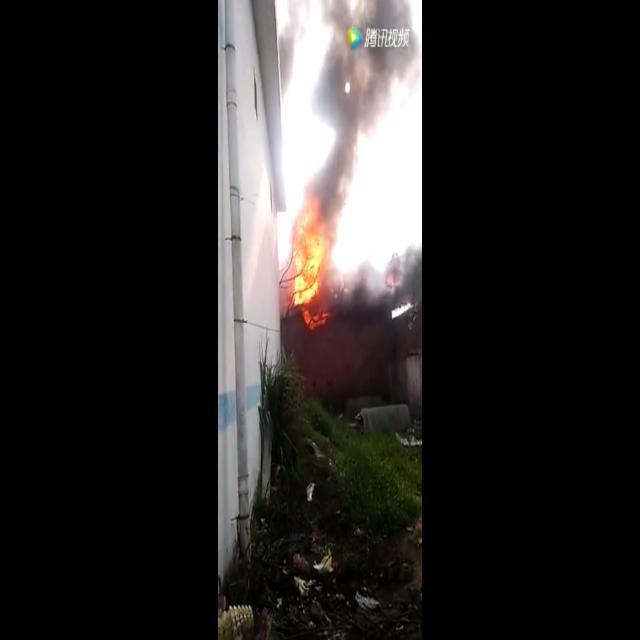Fire: (292, 210, 328, 328)
Smoke: (278, 1, 422, 325)
